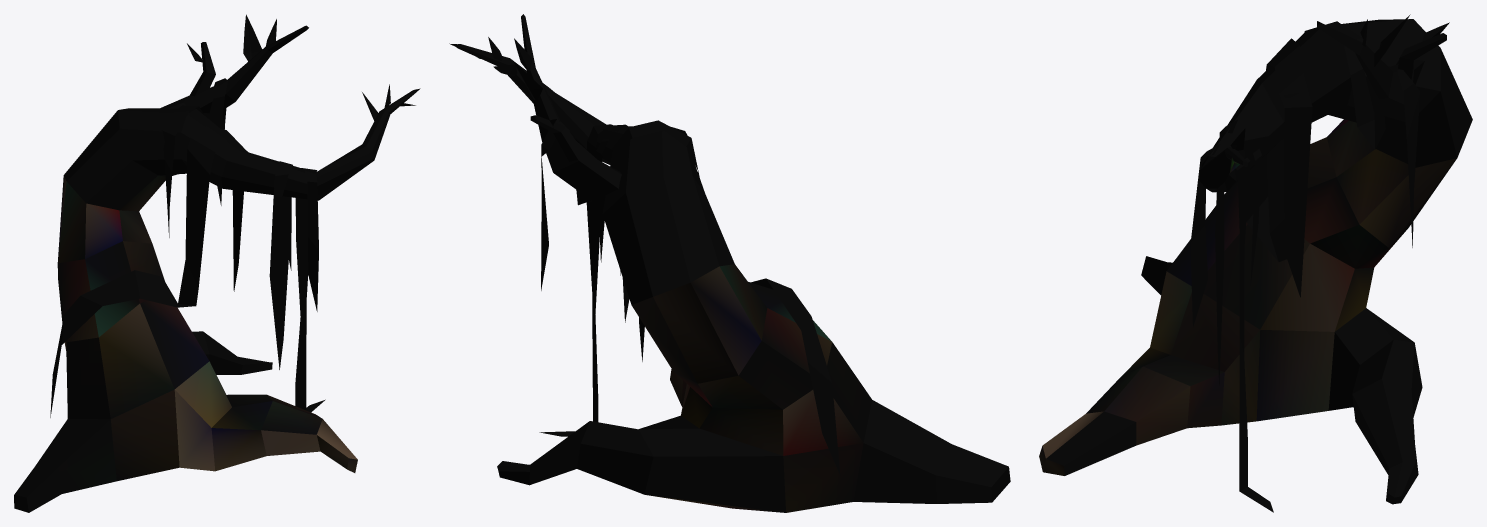
The model's file is SM_Scifi_Tree_Willow_Big.glb.
3 views of the same model, side by side, from view 1: azimuth 30°, elevation 25°; view 2: azimuth 150°, elevation 25°; view 3: azimuth 270°, elevation 25° (orthographic). The views are drawn at different scales.
Visible parts, largest first — view 1: output0; view 2: output0; view 3: output0.
Boxes of the visible parts, bbox=[...] form: output0: bbox=[14, 14, 420, 512]; output0: bbox=[449, 14, 1010, 512]; output0: bbox=[1039, 14, 1472, 512].
Size of the model in its own units: 0.063 by 0.0515 by 0.0406.
1 material, 1 textured.
